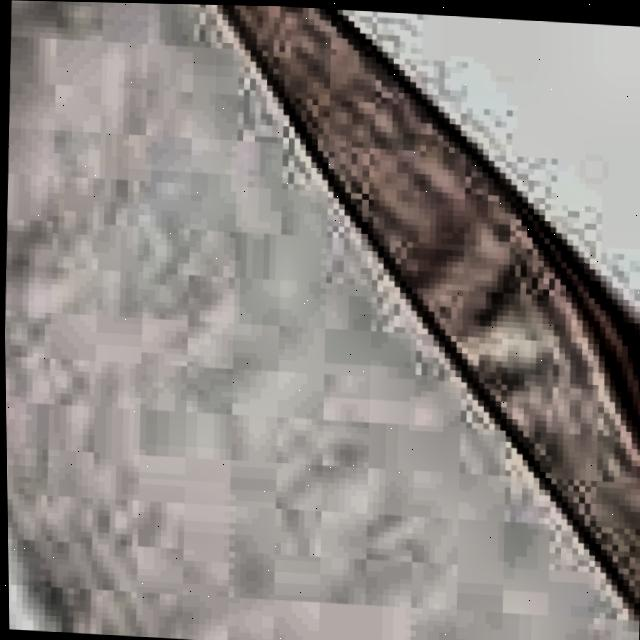paper: (4, 0, 640, 640)
